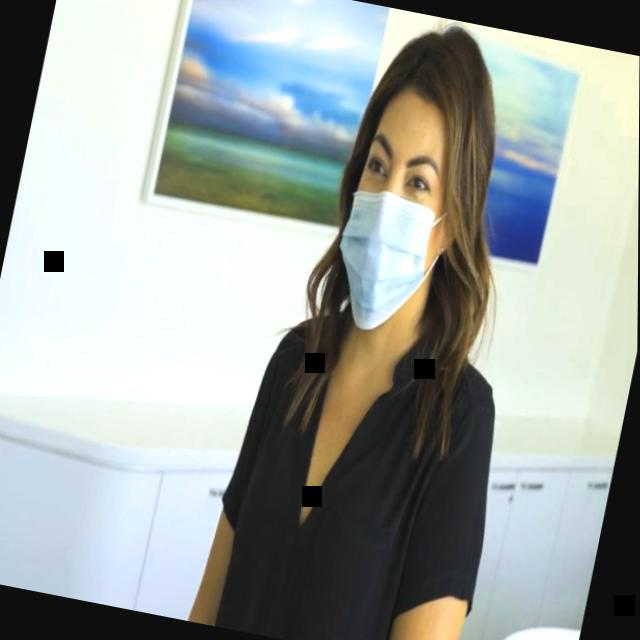Mask: (322, 81, 473, 346)
